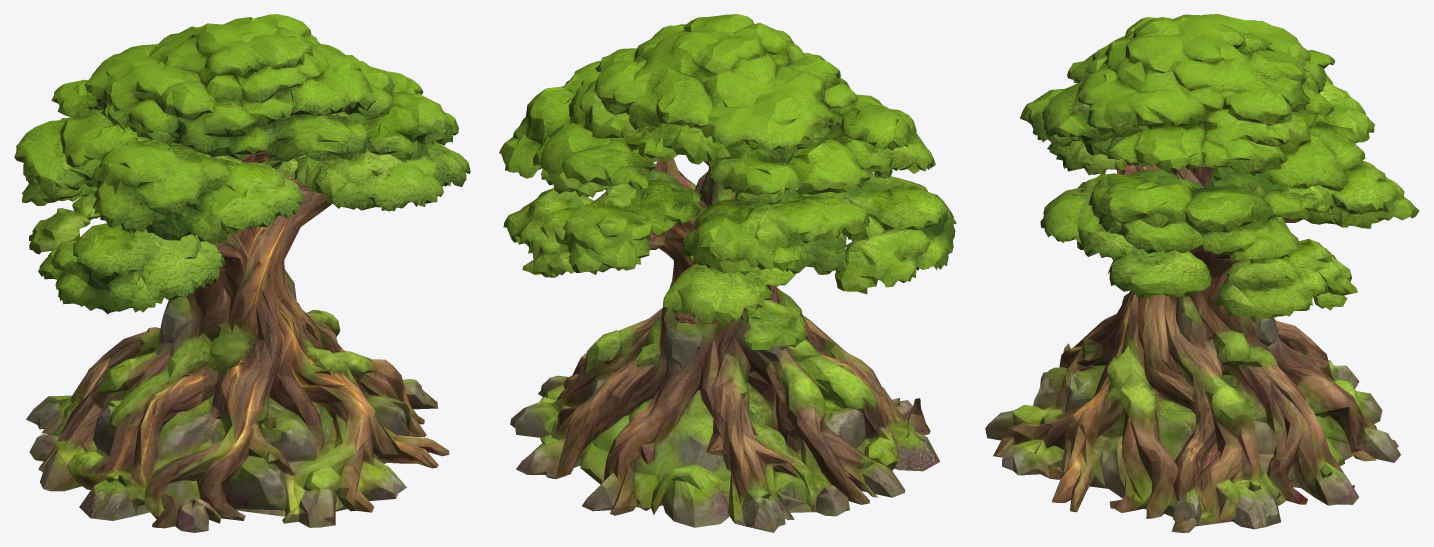
The model's file is VEG-002.glb.
3 renders of one model, left to right at view 1: azimuth 30°, elevation 25°; view 2: azimuth 150°, elevation 25°; view 3: azimuth 270°, elevation 25°, orthographic.
Visible parts, largest first — view 1: VEG-002; view 2: VEG-002; view 3: VEG-002.
Part boxes in pixels (left/top/right/bottom): VEG-002: left=14, top=14, right=470, bottom=532; VEG-002: left=499, top=14, right=956, bottom=532; VEG-002: left=985, top=14, right=1419, bottom=532.
Bounding box in the file's own units: 24.46 × 24 × 22.86.
1 material, 1 textured.
